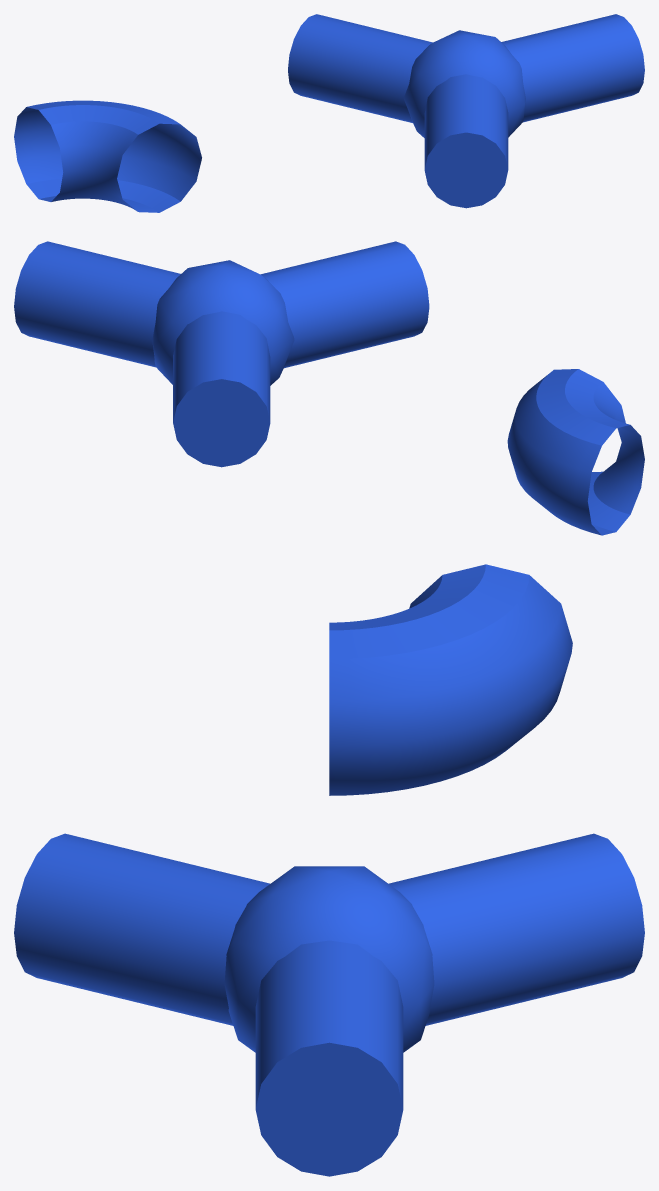
Rendered from connectors.glb.
3 views of the same model, one above another, from view 1: azimuth 30°, elevation 25°; view 2: azimuth 150°, elevation 25°; view 3: azimuth 270°, elevation 25° (orthographic). The views are drawn at different scales.
Visible parts, largest first — view 1: connector.tee, connector.elbow; view 2: connector.tee, connector.elbow; view 3: connector.tee, connector.elbow.
Boxes of the visible parts, x1,y1,x2,y2 form: connector.tee: (288,14,644,208); connector.elbow: (14,100,201,212); connector.tee: (14,241,429,467); connector.elbow: (507,369,644,535); connector.tee: (14,833,644,1176); connector.elbow: (329,564,572,795).
Size of the model in its own units: 1.27 by 0.26 by 0.7259.
